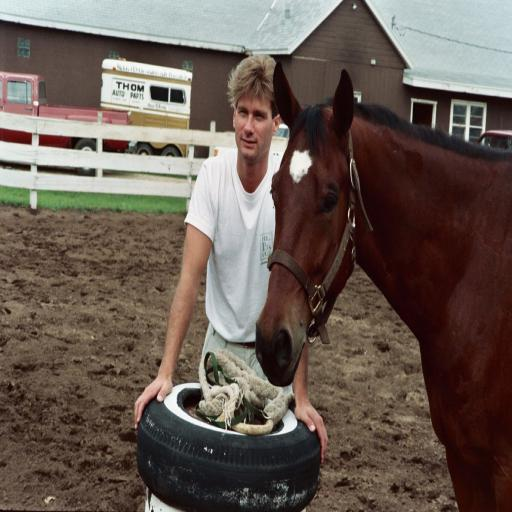Horse: (252, 52, 512, 512)
